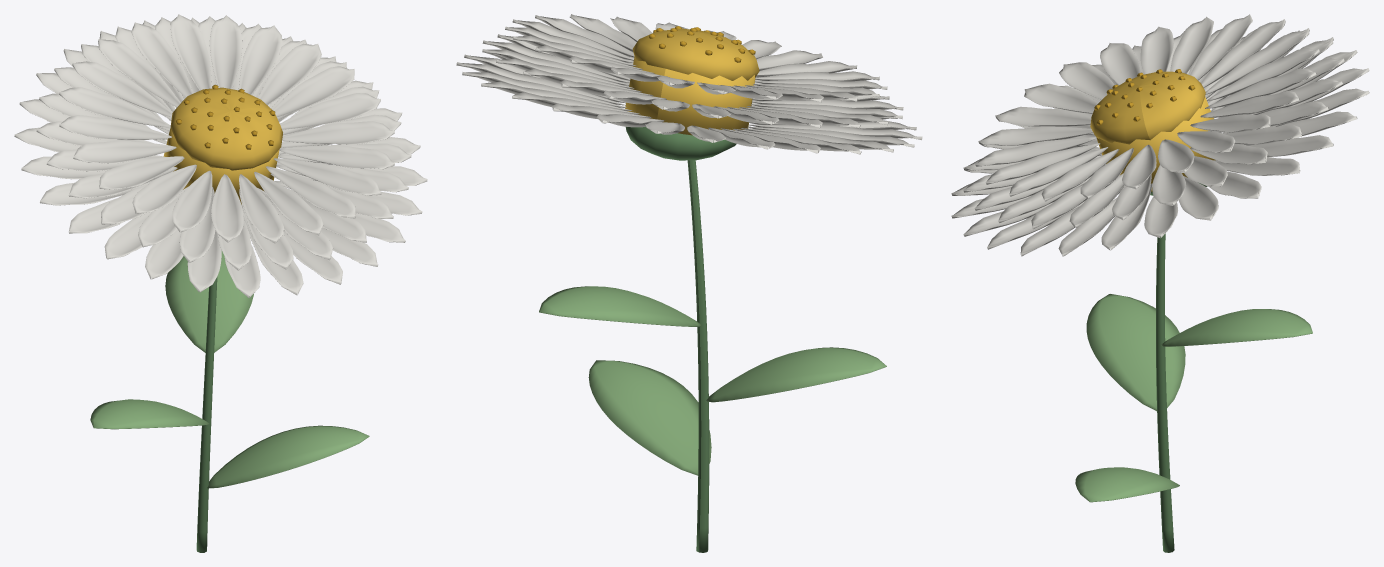
Rendered from daisy-legendary-v2.glb.
3 renders of one model, left to right at view 1: azimuth 30°, elevation 25°; view 2: azimuth 150°, elevation 25°; view 3: azimuth 270°, elevation 25°, orthographic. The views are drawn at different scales.
Parts seen in each view (by area): view 1: daisy-legendary-v2-petal, daisy-legendary-v2-leaf, daisy-legendary-v2-center, daisy-legendary-v2-stem, daisy-legendary-v2-pollen; view 2: daisy-legendary-v2-petal, daisy-legendary-v2-leaf, daisy-legendary-v2-center, daisy-legendary-v2-stem, daisy-legendary-v2-pollen; view 3: daisy-legendary-v2-petal, daisy-legendary-v2-leaf, daisy-legendary-v2-center, daisy-legendary-v2-stem, daisy-legendary-v2-pollen.
Part boxes in pixels (box(x1,y1,x2,y2)): daisy-legendary-v2-petal: box(14, 14, 427, 297); daisy-legendary-v2-leaf: box(90, 250, 369, 488); daisy-legendary-v2-center: box(163, 87, 282, 204); daisy-legendary-v2-stem: box(196, 277, 217, 552); daisy-legendary-v2-pollen: box(175, 84, 275, 149); daisy-legendary-v2-petal: box(456, 14, 922, 154); daisy-legendary-v2-leaf: box(539, 286, 886, 475); daisy-legendary-v2-center: box(625, 29, 759, 135); daisy-legendary-v2-stem: box(625, 127, 736, 552); daisy-legendary-v2-pollen: box(649, 26, 755, 62); daisy-legendary-v2-petal: box(951, 14, 1369, 256); daisy-legendary-v2-leaf: box(1075, 294, 1312, 502); daisy-legendary-v2-center: box(1090, 71, 1215, 191); daisy-legendary-v2-stem: box(1150, 183, 1207, 552); daisy-legendary-v2-pollen: box(1094, 69, 1195, 125).
Size of the model in its own units: 1.31 by 1.65 by 1.24.
